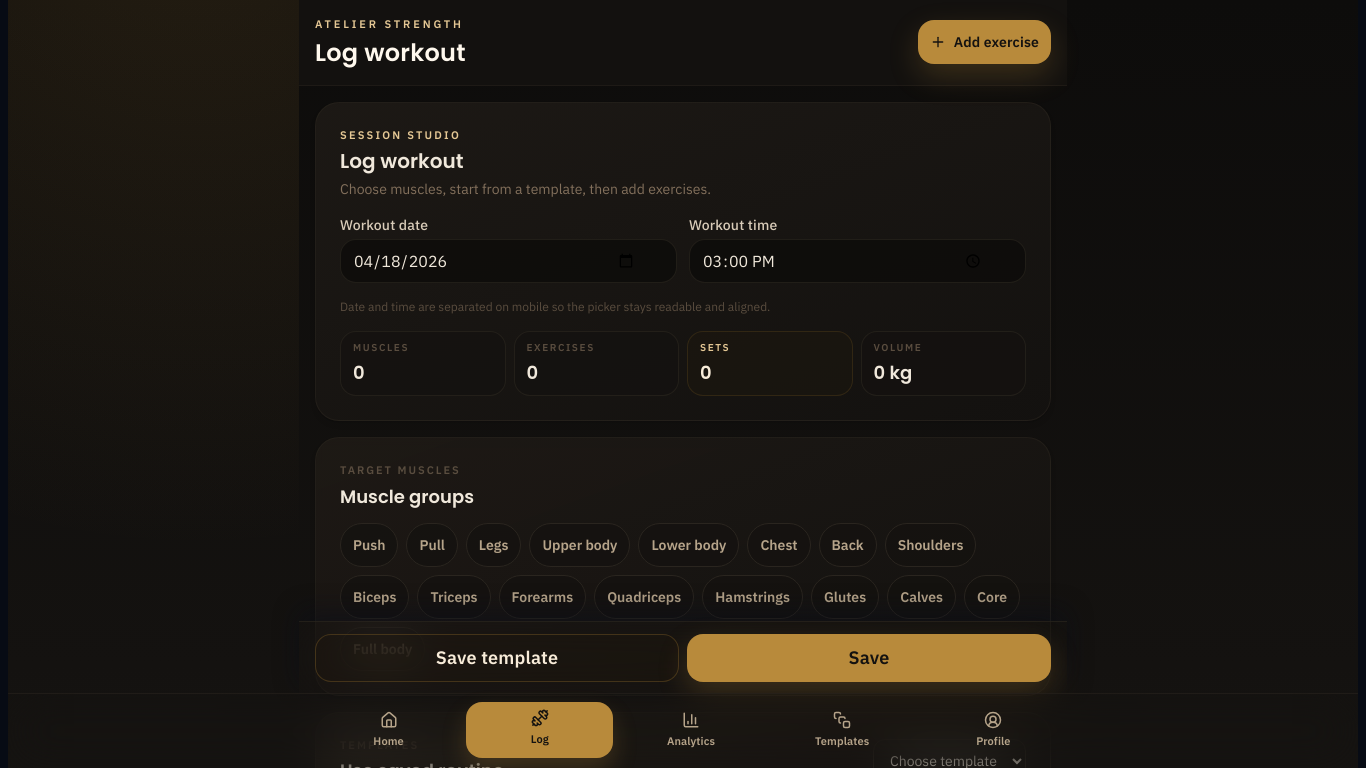
LogWorkoutPage › loads catalogue and lets user add an exercise
The width and height of the screenshot is (1366, 768).
What coordinates should you click on to do the following:
click the button "Add exercise"
I would click on:
 (984, 42)
Its box is [918,20,1051,64].
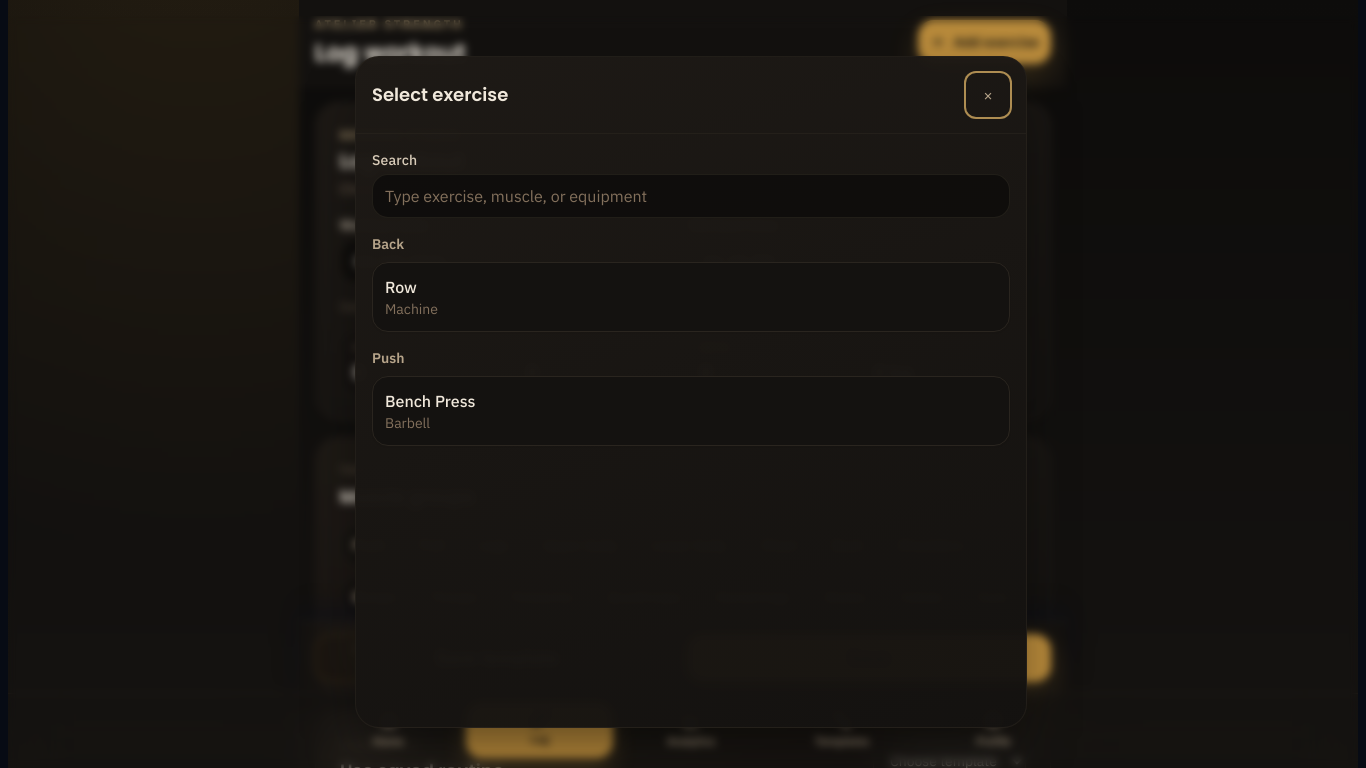
What coordinates should you click on to do the following:
click the button "Bench Press Barbell"
I would click on:
 (430, 401)
Its box is [372,376,1010,446].
(page scrolled)
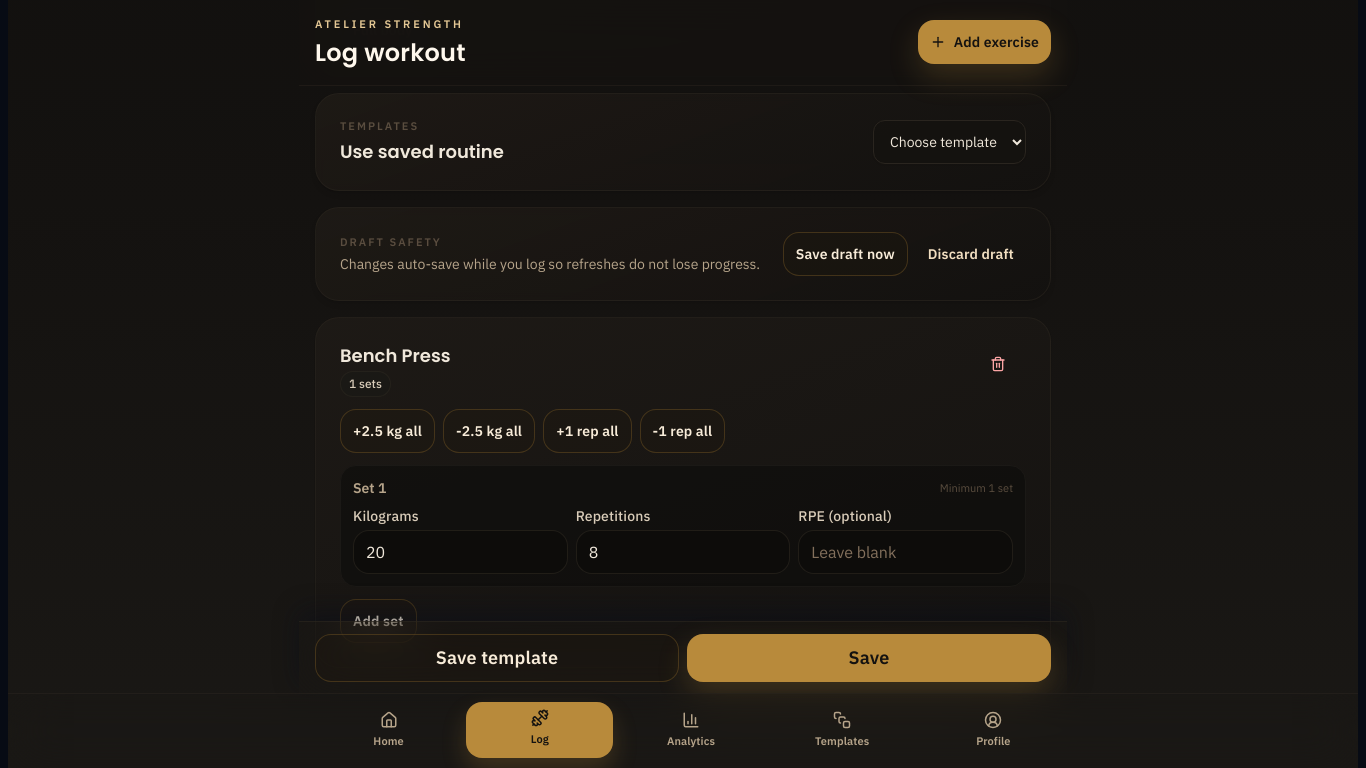
Check: the text "Bench Press" is shown, box [340,342,450,370]
Check: the text "1 sets" is shown, box [340,371,391,397]
